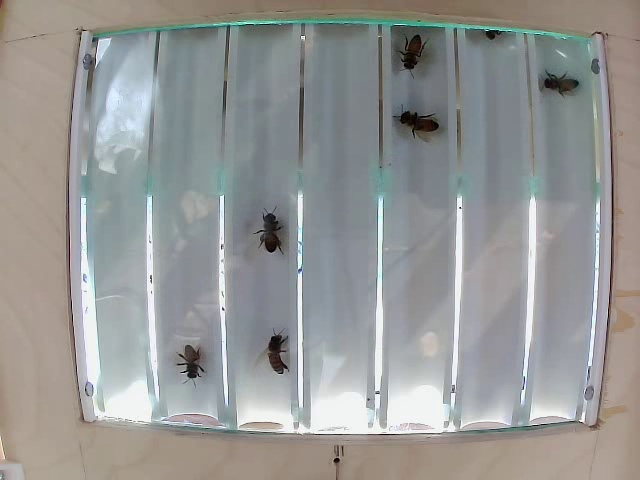bee: (399, 97, 450, 156), (397, 41, 436, 93), (261, 206, 294, 259), (260, 329, 296, 373), (178, 343, 211, 383), (541, 66, 570, 107)
